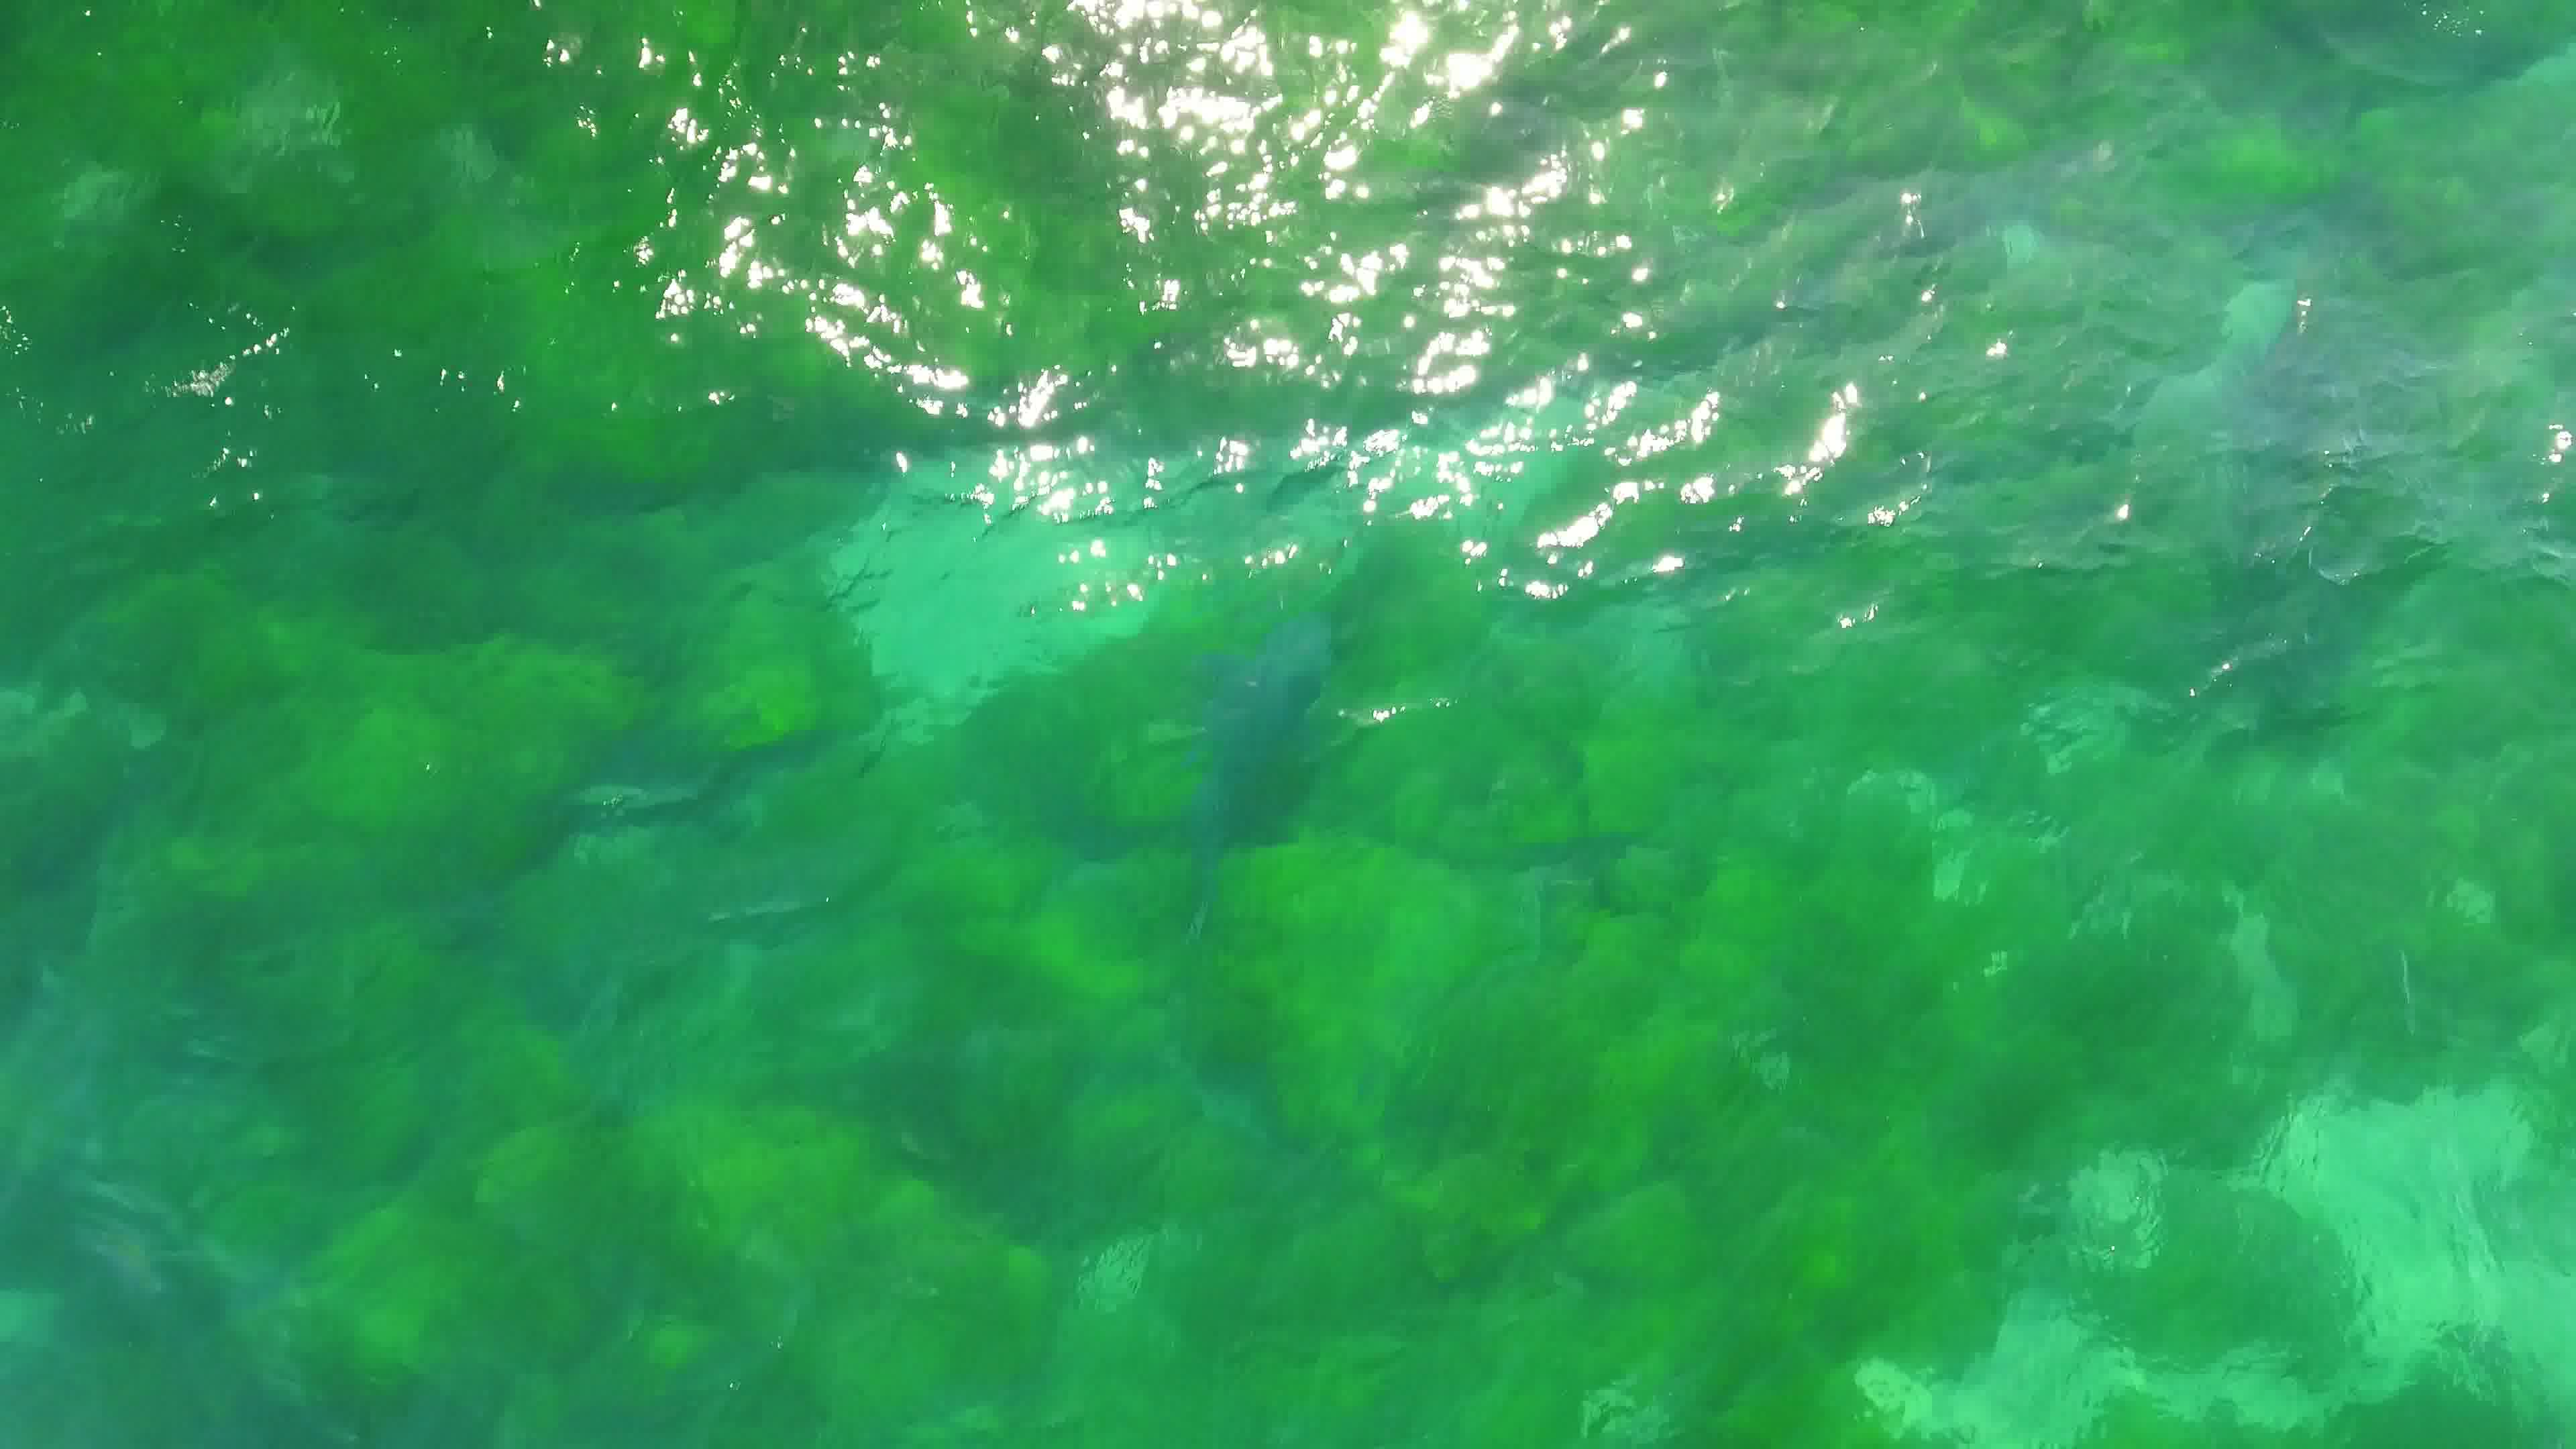shark: (1171, 603, 1343, 961)
